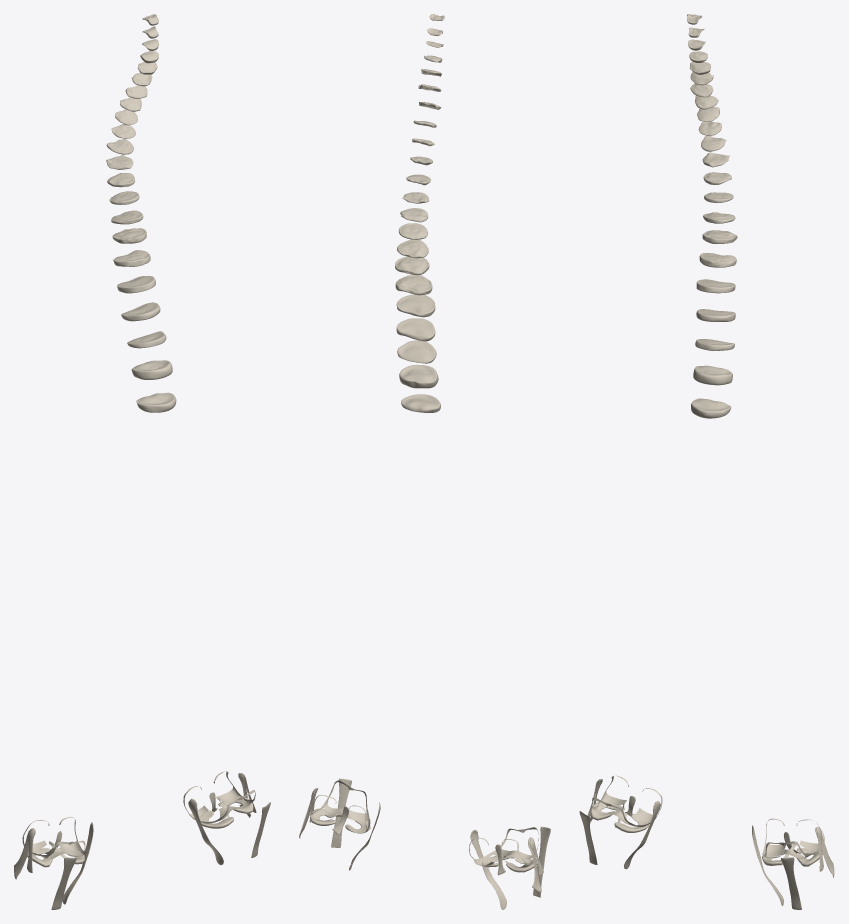
File: joints.glb
The picture shows the model from 3 angles, left to right: view 1: azimuth 30°, elevation 25°; view 2: azimuth 150°, elevation 25°; view 3: azimuth 330°, elevation 25°; orthographic projection.
Visible parts, largest first — view 1: Articular cartilage of distal epiphysis of left femur, Articular cartilage of distal epiphysis of right femur, intervertebral disk of third lumbar vertebra, intervertebral disk of fourth lumbar vertebra, Articular disk of knee joint; view 2: intervertebral disk of third lumbar vertebra, intervertebral disk of first lumbar vertebra, Articular cartilage of distal epiphysis of left femur, intervertebral disk of twelfth thoracic vertebra, Articular cartilage of distal epiphysis of right femur, intervertebral disk of second lumbar vertebra, intervertebral disk of fourth lumbar vertebra, intervertebral disk of eleventh thoracic vertebra; view 3: Articular cartilage of distal epiphysis of right femur, Articular cartilage of distal epiphysis of left femur, intervertebral disk of fourth lumbar vertebra, intervertebral disk of third lumbar vertebra, Articular disk of knee joint.
Part boxes in pixels (x1,y1,x2,y2): Articular cartilage of distal epiphysis of left femur: (183, 771, 255, 823); Articular cartilage of distal epiphysis of right femur: (22, 817, 85, 859); intervertebral disk of third lumbar vertebra: (131, 360, 172, 379); intervertebral disk of fourth lumbar vertebra: (136, 392, 176, 412); Articular disk of knee joint: (200, 796, 253, 828); intervertebral disk of third lumbar vertebra: (399, 364, 438, 388); intervertebral disk of first lumbar vertebra: (396, 318, 435, 341); Articular cartilage of distal epiphysis of left femur: (309, 780, 370, 833); intervertebral disk of twelfth thoracic vertebra: (396, 294, 435, 317); Articular cartilage of distal epiphysis of right femur: (469, 827, 538, 867); intervertebral disk of second lumbar vertebra: (397, 340, 436, 363); intervertebral disk of fourth lumbar vertebra: (401, 394, 440, 412); intervertebral disk of eleventh thoracic vertebra: (395, 274, 432, 295); Articular cartilage of distal epiphysis of right femur: (592, 775, 662, 826); Articular cartilage of distal epiphysis of left femur: (762, 818, 824, 858); intervertebral disk of fourth lumbar vertebra: (691, 398, 731, 418); intervertebral disk of third lumbar vertebra: (693, 365, 732, 385); Articular disk of knee joint: (590, 802, 648, 832).
Bounding box in the file's own units: 0.3207 × 1.12 × 0.1111.
